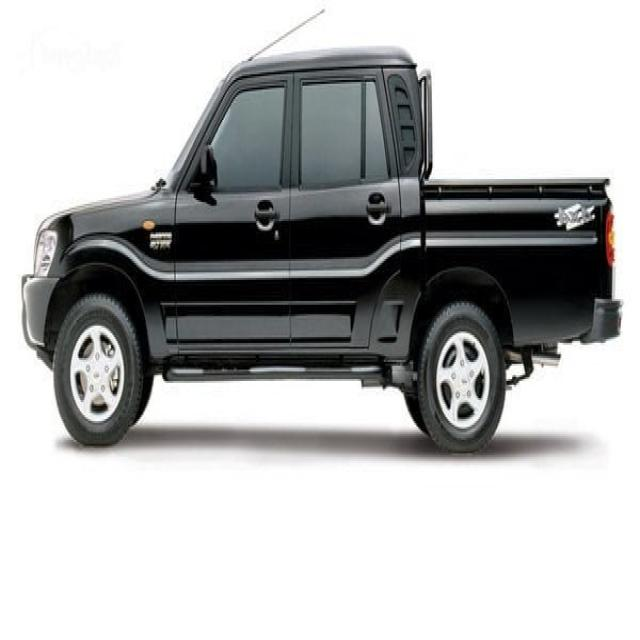truck: (21, 49, 621, 451)
